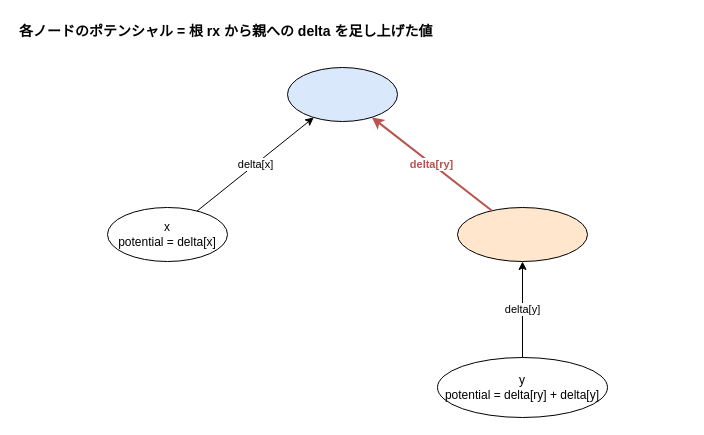
This 704x435 diagram has some shape labels left out. The shapes that lost their labels are listed below. From the top down, each one's centre as x and y in pixels, then its label:
the point at 342,94: rx potential = 0
the point at 522,234: ry potential = delta[ry]
